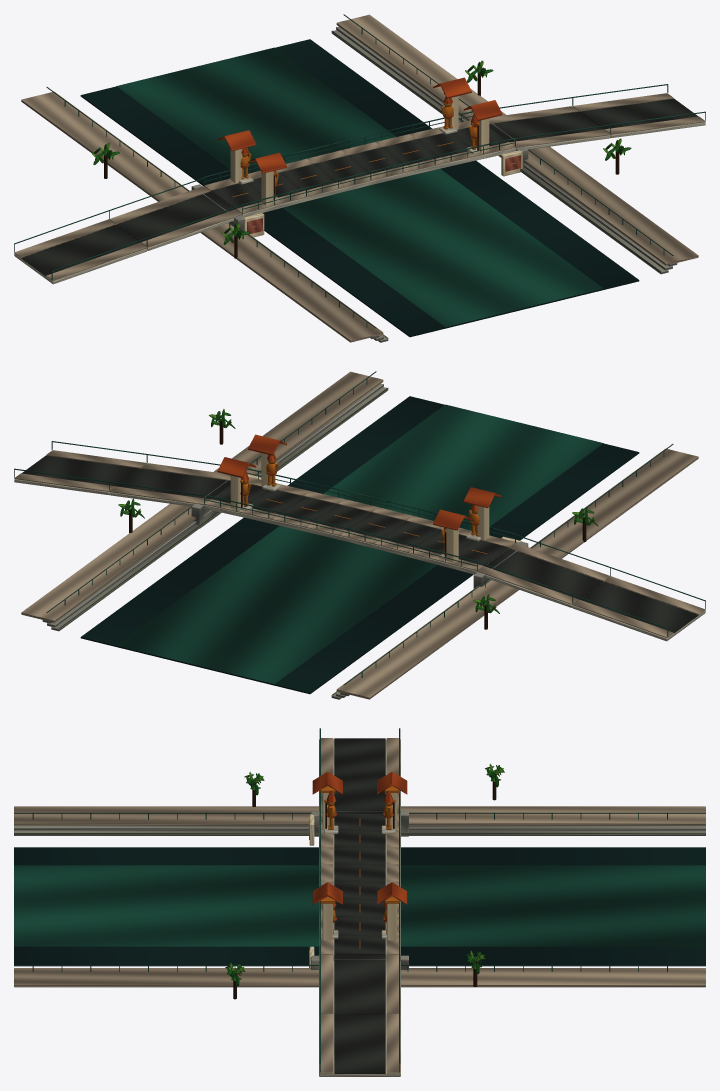
Rendered from HNP_Map007_BridgeCanal_LOD0_v003.fbx.
3 views of the same model, one above another, from view 1: azimuth 30°, elevation 25°; view 2: azimuth 150°, elevation 25°; view 3: azimuth 270°, elevation 25° (orthographic). The views are drawn at different scales.
Parts seen in each view (by area): view 1: MAP007_CANAL_LOD0_S0_MAT_Canal_Water, MAP007_CANAL_LOD0_S0_MAT_Canal_Water_Deep, MAP007_CANAL_LOD0_S-1_MAT_Forecourt_Paver, MAP007_CANAL_LOD0_S1_MAT_Forecourt_Paver, MAP007_CANAL_LOD0_S-1_MAT_Asphalt, MAP007_CANAL_LOD0_S1_MAT_Asphalt, MAP007_CANAL_LOD0_S1_MAT_Concrete_Aged, MAP007_CANAL_LOD0_S0_MAT_Asphalt, MAP007_CANAL_LOD0_S0_MAT_Forecourt_Paver, MAP007_CANAL_LOD0_S0_MAT_Painted_Steel_Green, MAP007_CANAL_LOD0_S-1_MAT_Painted_Steel_Green, MAP007_CANAL_LOD0_S1_MAT_Painted_Steel_Green (+7 smaller); view 2: MAP007_CANAL_LOD0_S0_MAT_Canal_Water, MAP007_CANAL_LOD0_S0_MAT_Canal_Water_Deep, MAP007_CANAL_LOD0_S-1_MAT_Forecourt_Paver, MAP007_CANAL_LOD0_S1_MAT_Forecourt_Paver, MAP007_CANAL_LOD0_S-1_MAT_Asphalt, MAP007_CANAL_LOD0_S1_MAT_Asphalt, MAP007_CANAL_LOD0_S1_MAT_Concrete_Aged, MAP007_CANAL_LOD0_S0_MAT_Asphalt, MAP007_CANAL_LOD0_S0_MAT_Forecourt_Paver, MAP007_CANAL_LOD0_S0_MAT_Painted_Steel_Green, MAP007_CANAL_LOD0_S-1_MAT_Painted_Steel_Green, MAP007_CANAL_LOD0_S1_MAT_Painted_Steel_Green (+7 smaller); view 3: MAP007_CANAL_LOD0_S0_MAT_Canal_Water, MAP007_CANAL_LOD0_S0_MAT_Canal_Water_Deep, MAP007_CANAL_LOD0_S1_MAT_Forecourt_Paver, MAP007_CANAL_LOD0_S-1_MAT_Forecourt_Paver, MAP007_CANAL_LOD0_S1_MAT_Asphalt, MAP007_CANAL_LOD0_S-1_MAT_Concrete_Aged, MAP007_CANAL_LOD0_S-1_MAT_Asphalt, MAP007_CANAL_LOD0_S0_MAT_Asphalt, MAP007_CANAL_LOD0_S-1_MAT_Concrete_Light, MAP007_CANAL_LOD0_S-1_MAT_Painted_Steel_Green, MAP007_CANAL_LOD0_S1_MAT_Painted_Steel_Green, MAP007_CANAL_LOD0_S-1_MAT_Terracotta_Roof (+8 smaller).
Part boxes in pixels (x1,y1,x2,y2): MAP007_CANAL_LOD0_S0_MAT_Canal_Water: (116,47,603,327); MAP007_CANAL_LOD0_S0_MAT_Canal_Water_Deep: (80,39,639,337); MAP007_CANAL_LOD0_S-1_MAT_Forecourt_Paver: (14,91,383,342); MAP007_CANAL_LOD0_S1_MAT_Forecourt_Paver: (336,14,705,265); MAP007_CANAL_LOD0_S-1_MAT_Asphalt: (21,173,303,276); MAP007_CANAL_LOD0_S1_MAT_Asphalt: (416,98,698,157); MAP007_CANAL_LOD0_S1_MAT_Concrete_Aged: (331,26,677,274); MAP007_CANAL_LOD0_S0_MAT_Asphalt: (280,139,440,190); MAP007_CANAL_LOD0_S0_MAT_Forecourt_Paver: (277,134,447,196); MAP007_CANAL_LOD0_S0_MAT_Painted_Steel_Green: (204,111,515,209); MAP007_CANAL_LOD0_S-1_MAT_Painted_Steel_Green: (14,87,376,328); MAP007_CANAL_LOD0_S1_MAT_Painted_Steel_Green: (343,14,705,255); MAP007_CANAL_LOD0_S0_MAT_Canal_Water: (116,404,603,684); MAP007_CANAL_LOD0_S0_MAT_Canal_Water_Deep: (80,396,639,694); MAP007_CANAL_LOD0_S-1_MAT_Forecourt_Paver: (336,448,705,699); MAP007_CANAL_LOD0_S1_MAT_Forecourt_Paver: (14,371,383,622); MAP007_CANAL_LOD0_S-1_MAT_Asphalt: (416,530,698,633); MAP007_CANAL_LOD0_S1_MAT_Asphalt: (21,455,303,514); MAP007_CANAL_LOD0_S1_MAT_Concrete_Aged: (42,383,388,631); MAP007_CANAL_LOD0_S0_MAT_Asphalt: (279,496,439,547); MAP007_CANAL_LOD0_S0_MAT_Forecourt_Paver: (272,491,442,553); MAP007_CANAL_LOD0_S0_MAT_Painted_Steel_Green: (204,468,515,566); MAP007_CANAL_LOD0_S-1_MAT_Painted_Steel_Green: (343,444,705,685); MAP007_CANAL_LOD0_S1_MAT_Painted_Steel_Green: (14,371,376,612); MAP007_CANAL_LOD0_S0_MAT_Canal_Water: (14,865,705,946); MAP007_CANAL_LOD0_S0_MAT_Canal_Water_Deep: (14,847,705,966); MAP007_CANAL_LOD0_S1_MAT_Forecourt_Paver: (14,917,705,1073); MAP007_CANAL_LOD0_S-1_MAT_Forecourt_Paver: (14,738,705,847); MAP007_CANAL_LOD0_S1_MAT_Asphalt: (334,917,385,1073); MAP007_CANAL_LOD0_S-1_MAT_Concrete_Aged: (14,811,705,836); MAP007_CANAL_LOD0_S-1_MAT_Asphalt: (334,738,385,847); MAP007_CANAL_LOD0_S0_MAT_Asphalt: (334,847,385,917); MAP007_CANAL_LOD0_S-1_MAT_Concrete_Light: (14,739,705,834); MAP007_CANAL_LOD0_S-1_MAT_Painted_Steel_Green: (14,728,705,819); MAP007_CANAL_LOD0_S1_MAT_Painted_Steel_Green: (14,945,705,1072); MAP007_CANAL_LOD0_S-1_MAT_Terracotta_Roof: (312,771,407,817).
Bounding box in the file's own units: 8259 × 878 × 7200.
